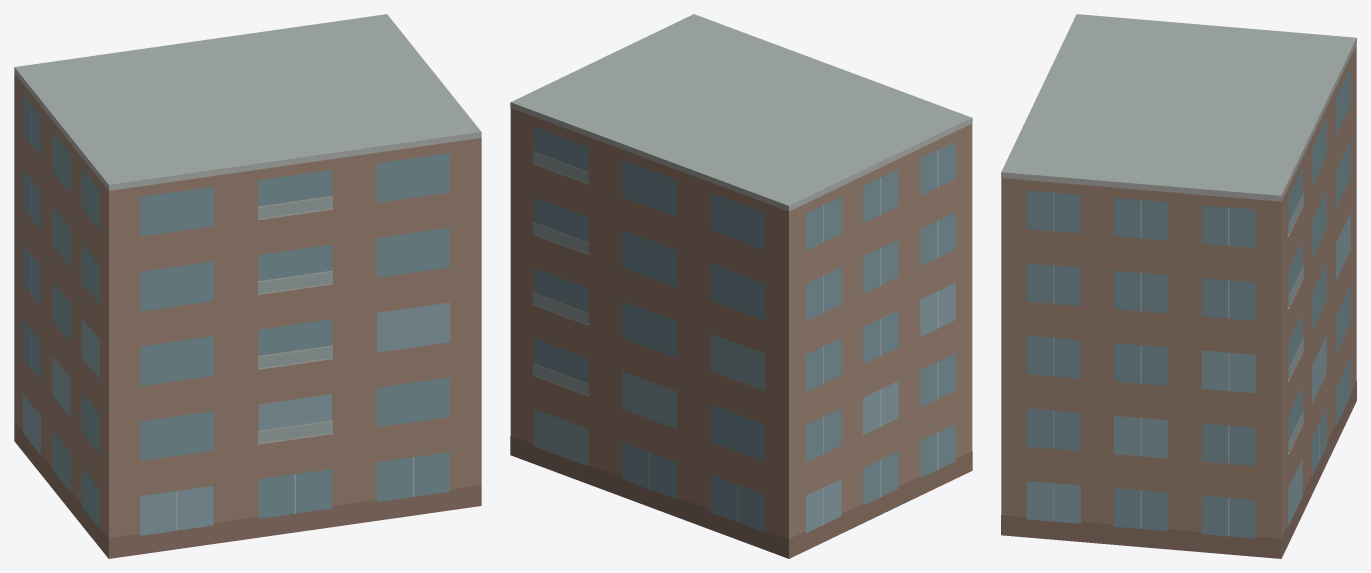
Rendered from survey-upis-33006520.glb.
3 renders of one model, left to right at view 1: azimuth 30°, elevation 25°; view 2: azimuth 150°, elevation 25°; view 3: azimuth 270°, elevation 25°, orthographic. The views are drawn at different scales.
Visible parts, largest first — view 1: survey-upis-33006520.tmp; view 2: survey-upis-33006520.tmp; view 3: survey-upis-33006520.tmp.
Boxes of the visible parts, x1,y1,x2,y2 form: survey-upis-33006520.tmp: (14,14,481,558); survey-upis-33006520.tmp: (510,14,972,558); survey-upis-33006520.tmp: (1001,14,1356,558).
Bounding box in the file's own units: 16.39 × 15.25 × 13.55.
